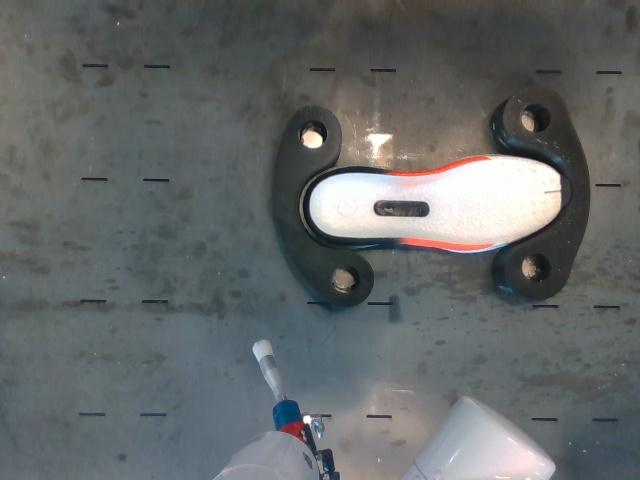shoes: (309, 159, 572, 244)
